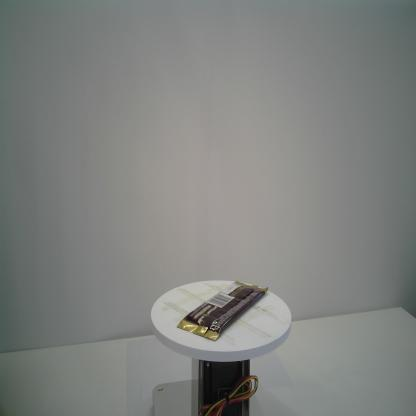Chocolate: (176, 279, 272, 344)
